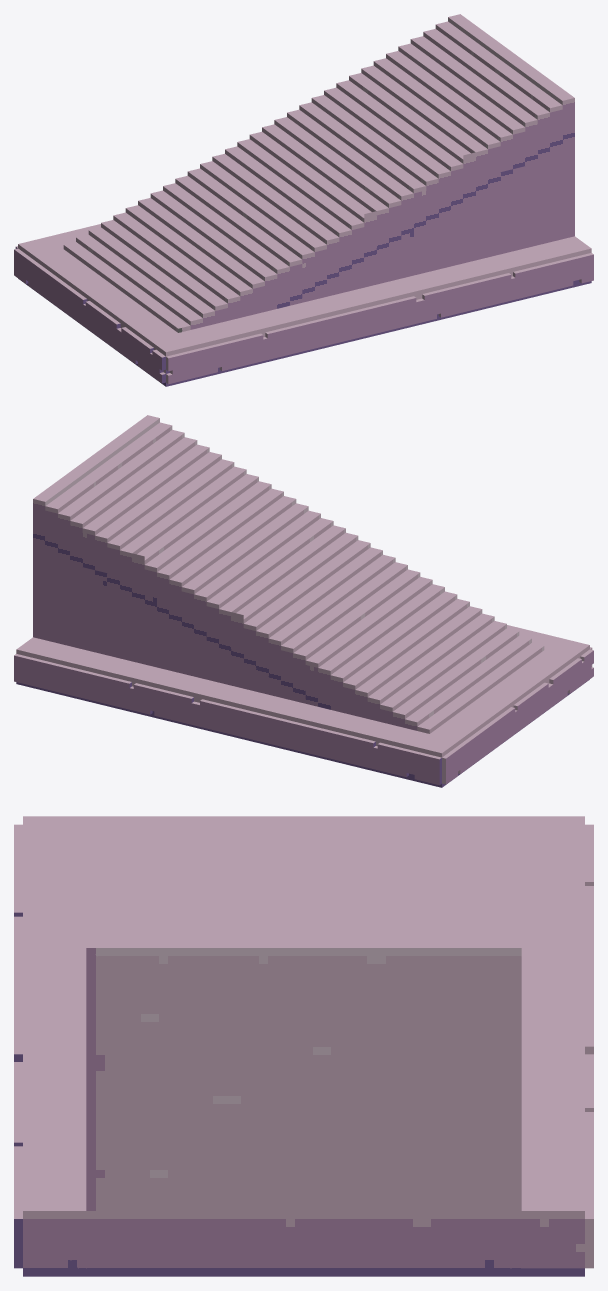
Rendered from library_roofao.fezao.glb.
3 views of the same model, one above another, from view 1: azimuth 30°, elevation 25°; view 2: azimuth 150°, elevation 25°; view 3: azimuth 270°, elevation 25° (orthographic). The views are drawn at different scales.
Visible parts, largest first — view 1: LIBRARY_ROOFAO; view 2: LIBRARY_ROOFAO; view 3: LIBRARY_ROOFAO.
Part boxes in pixels (left/top/right/bottom): LIBRARY_ROOFAO: left=14, top=14, right=593, bottom=386; LIBRARY_ROOFAO: left=14, top=415, right=593, bottom=787; LIBRARY_ROOFAO: left=14, top=816, right=593, bottom=1276.
Bounding box in the file's own units: 6.5 × 2.5 × 4.
Materials: 1 (1 with a texture image).
